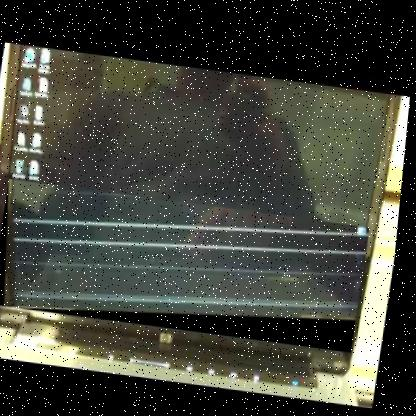lines: (0, 178, 376, 347)
